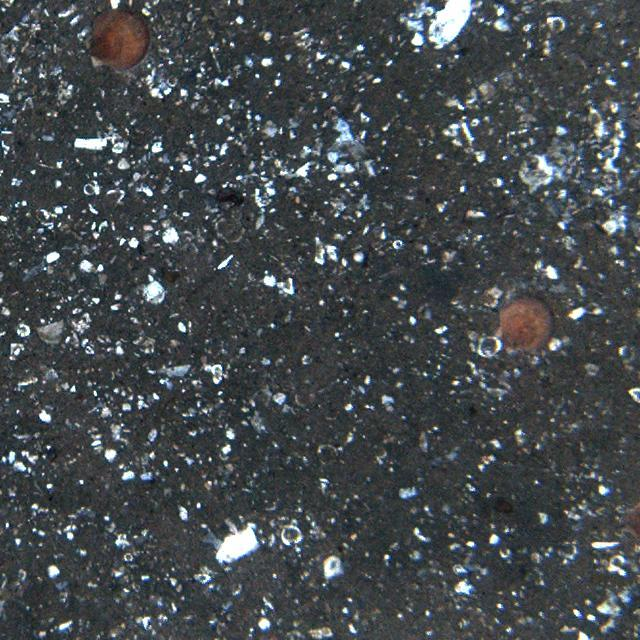scallop: (488, 296, 555, 358), (87, 8, 151, 72)
